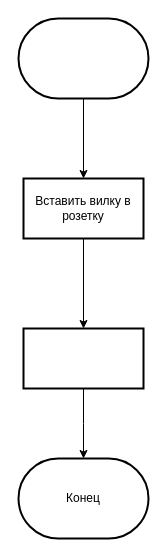
The diagram is 166 pixels wide and 556 high, and some of its shapes have lost their labels. The shapes that lost their labels are listed below. From the top down, each one's centre as x and y in pixels, then its label:
(83,58): Включить лампу
(83,358): Нажать кнопку включения
